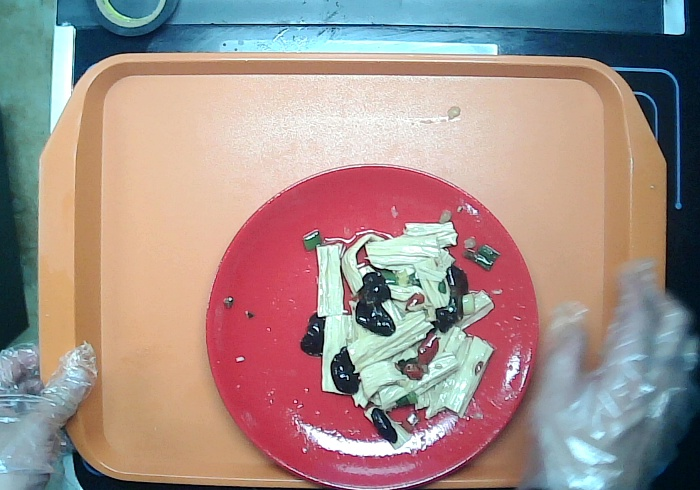HZYJPL-Hong_Se_Yuan_Pan: (204, 162, 542, 490)
